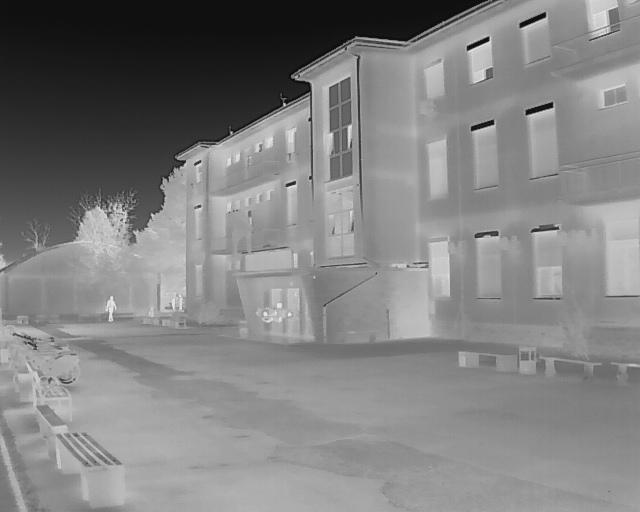drone: (241, 290, 305, 330)
